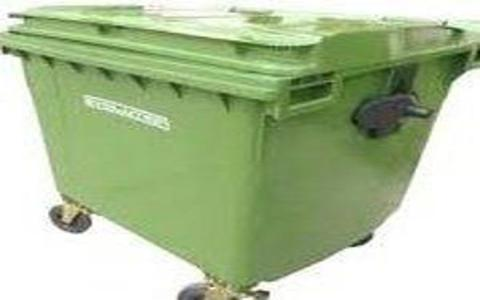Proper garbage: (1, 1, 477, 297)
